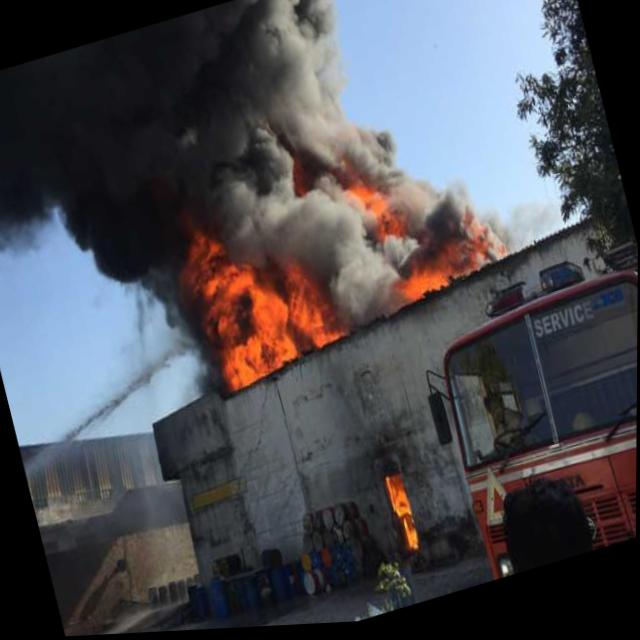fire: (167, 188, 363, 409), (376, 235, 487, 316), (336, 156, 414, 270), (376, 466, 428, 566), (458, 204, 509, 273)
